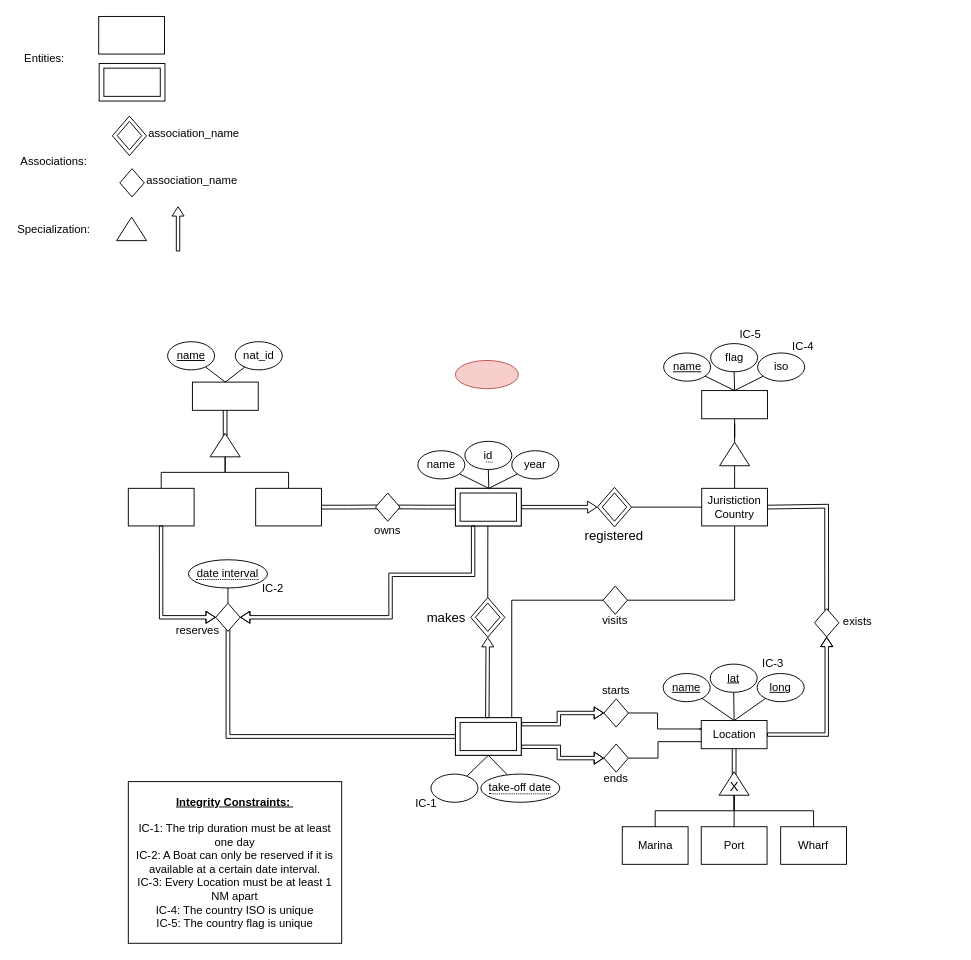
Image size: 971x960. Some labels were removed from this diagram. Each missing label, with the centre of its shape:
"Boat" goes at (x=488, y=506).
"Country" goes at (x=734, y=404).
"duration" goes at (x=454, y=787).
"Entity_name" goes at (x=131, y=35).
"Onwer" goes at (x=288, y=506).
"Person" goes at (x=224, y=395).
"Sailor" goes at (x=160, y=506).
"Trip" goes at (x=488, y=736).
"VHF/MMSI" goes at (x=486, y=374).
"Weak Entity" goes at (x=131, y=81).
